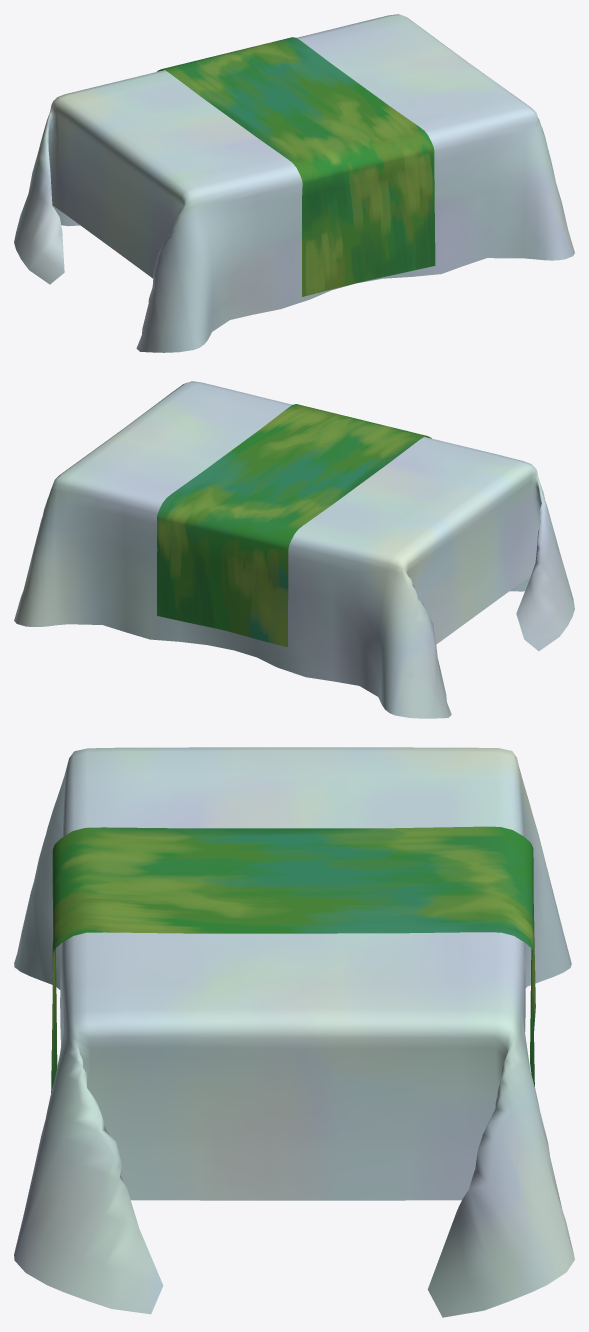
The model's file is F_Table_02.fbx.
The picture shows the model from 3 angles, top to bottom: view 1: azimuth 30°, elevation 25°; view 2: azimuth 150°, elevation 25°; view 3: azimuth 270°, elevation 25°; orthographic projection. The views are drawn at different scales.
Visible parts, largest first — view 1: F_Table_02; view 2: F_Table_02; view 3: F_Table_02.
Boxes of the visible parts, x1,y1,x2,y2 form: F_Table_02: (14, 14, 574, 352); F_Table_02: (14, 381, 574, 718); F_Table_02: (14, 747, 574, 1317).
Size of the model in its own units: 439 by 168 by 309.
